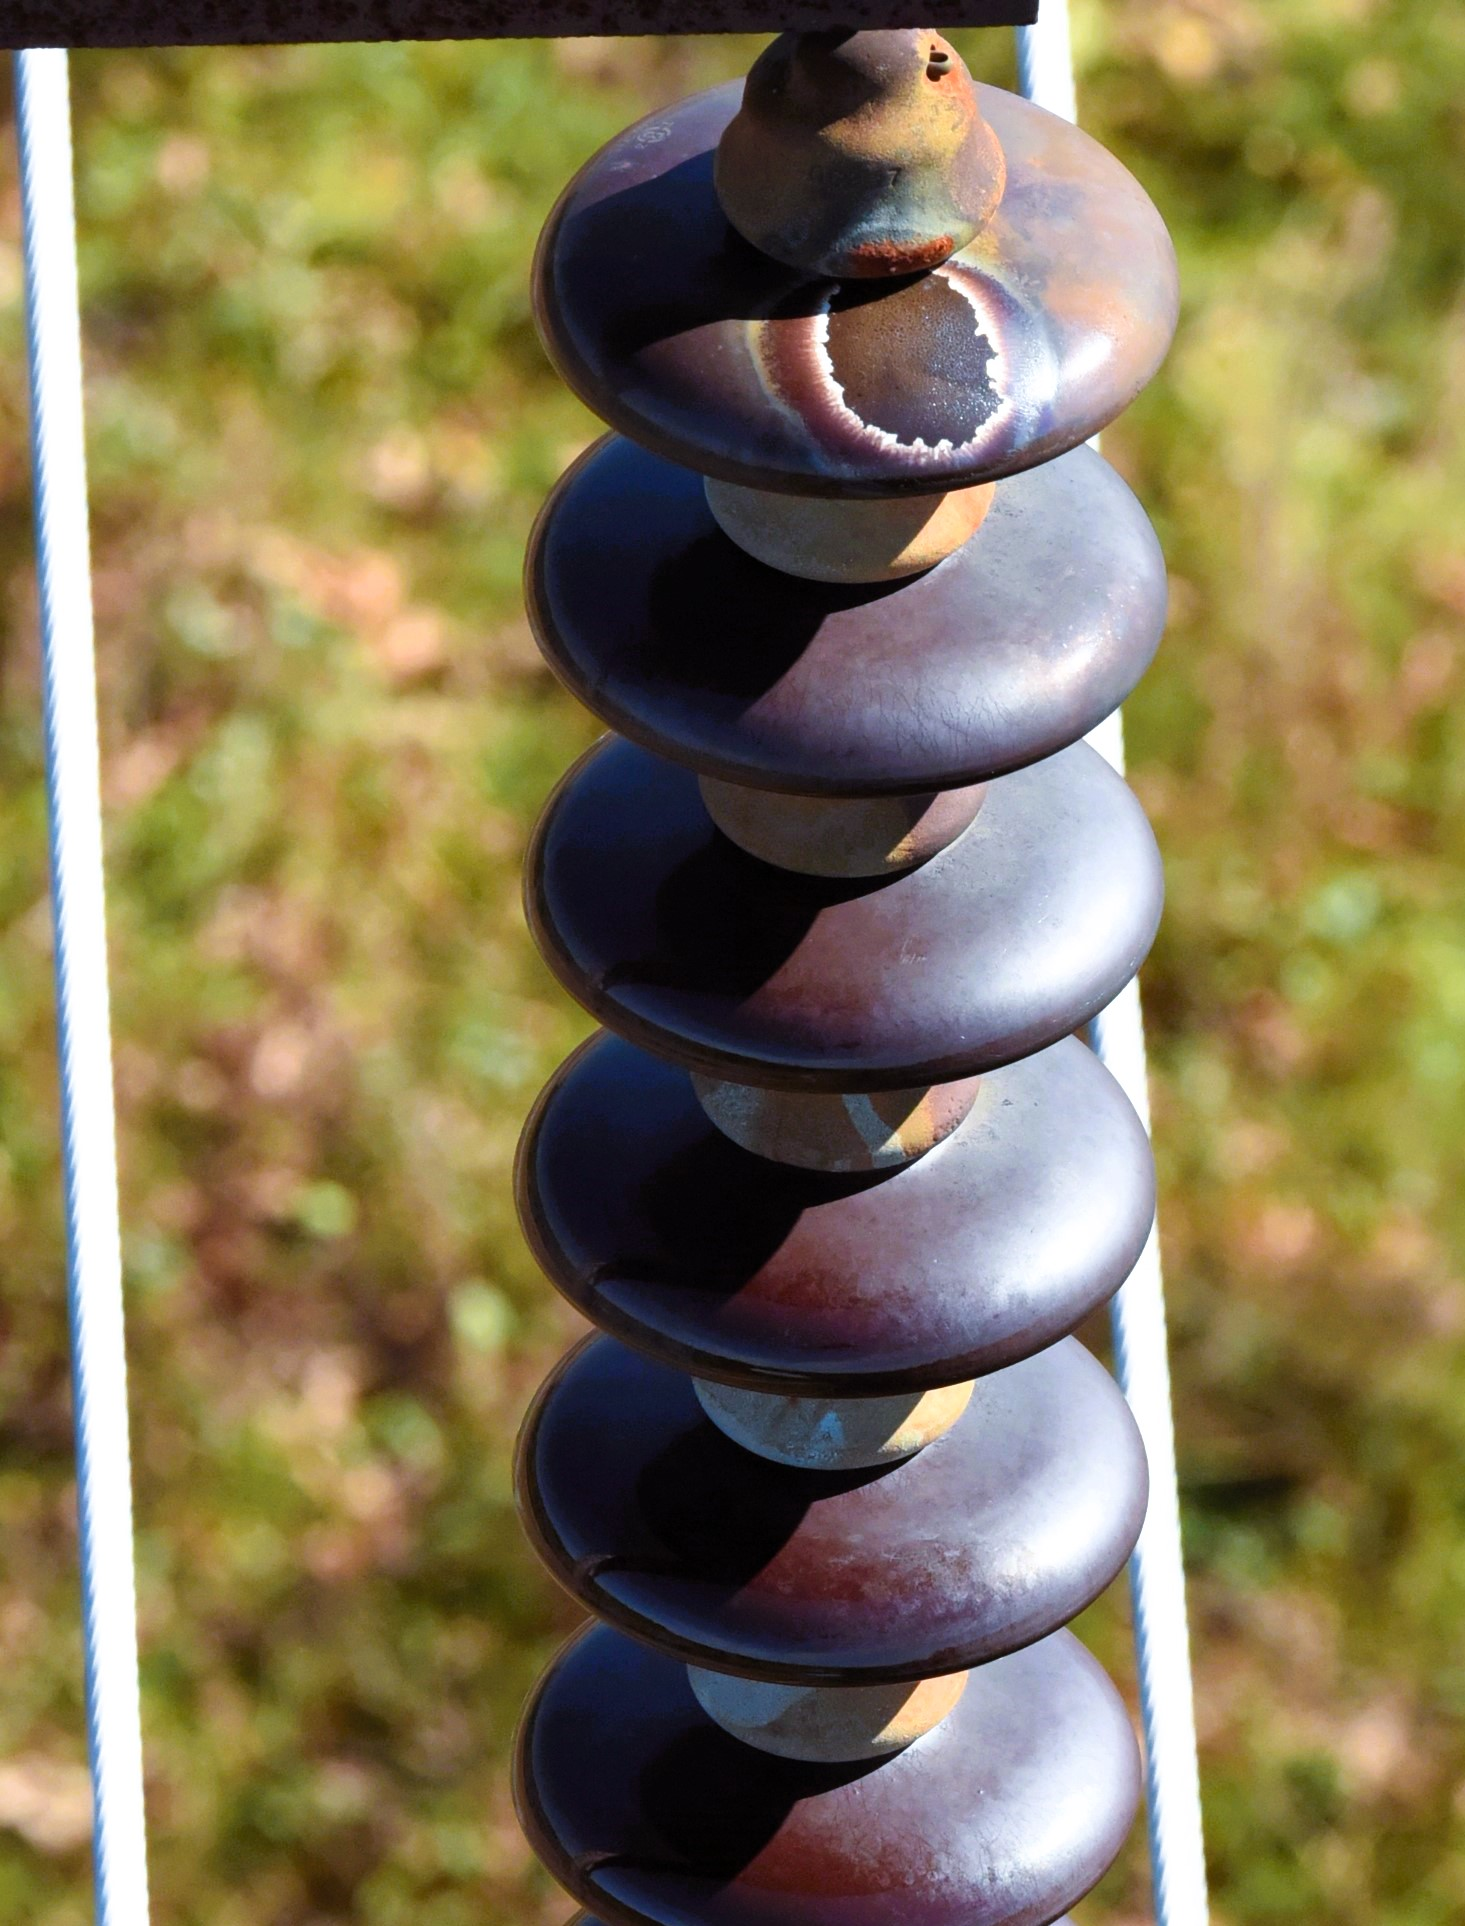Insulator flashover: (516, 63, 1193, 498)
